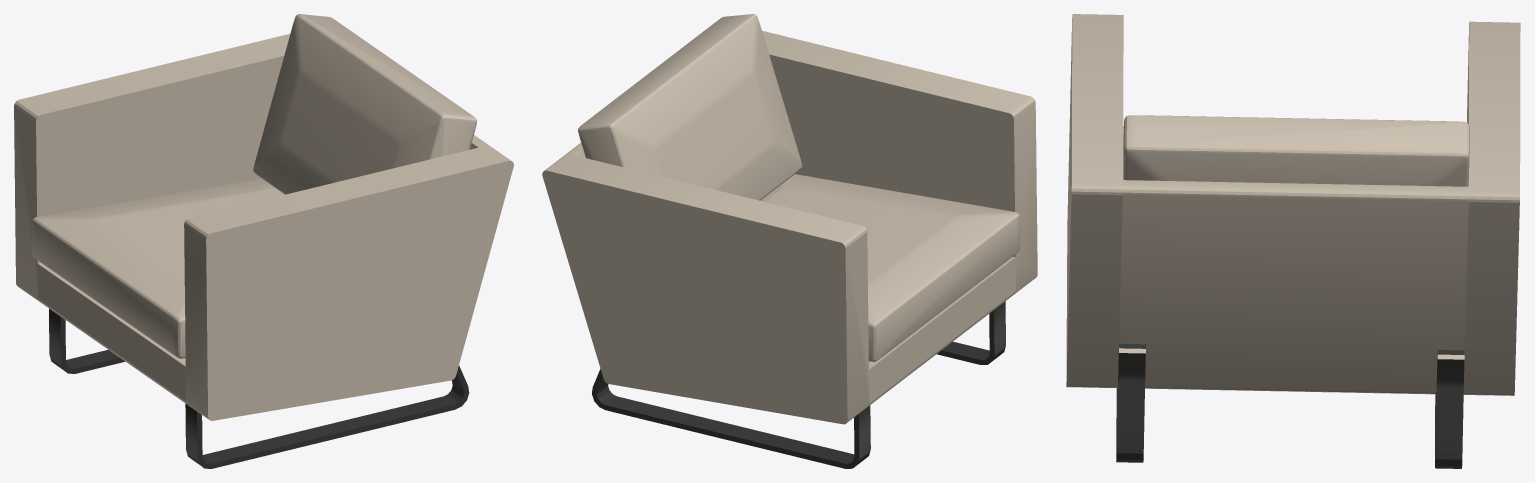
File: Akademik_fotel 1.fbx
The picture shows the model from 3 angles, left to right: view 1: azimuth 30°, elevation 25°; view 2: azimuth 150°, elevation 25°; view 3: azimuth 270°, elevation 25°; orthographic projection. The views are drawn at different scales.
Visible parts, largest first — view 1: AM_0_1, Group2, Group1; view 2: AM_0_1, Group1, Group2; view 3: AM_0_1, Group2, Group1.
Part boxes in pixels (x1=…): AM_0_1: x1=14, y1=14, x2=513, y2=420; Group2: x1=185, y1=365, x2=469, y2=468; Group1: x1=49, y1=308, x2=124, y2=373; AM_0_1: x1=542, y1=14, x2=1037, y2=424; Group1: x1=592, y1=369, x2=870, y2=468; Group2: x1=937, y1=301, x2=1005, y2=364; AM_0_1: x1=1066, y1=14, x2=1520, y2=395; Group2: x1=1116, y1=343, x2=1145, y2=462; Group1: x1=1435, y1=350, x2=1464, y2=468.
Bounding box in the file's own units: 0.7836 × 0.7101 × 0.8406.
